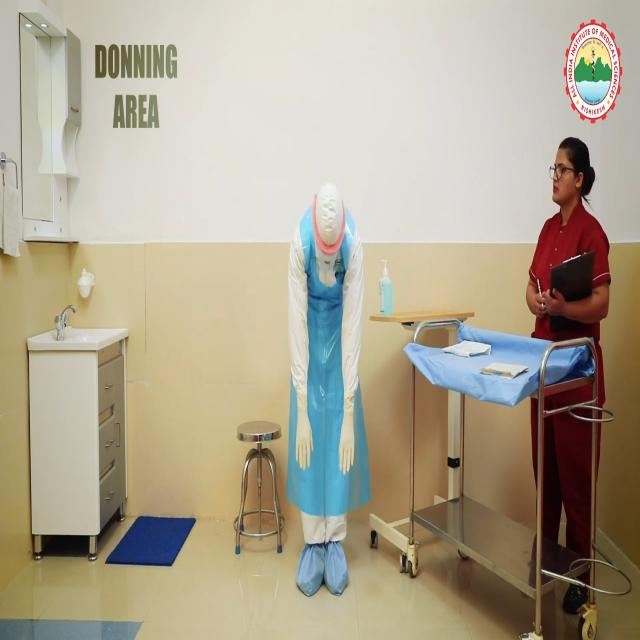Gloves: (338, 381, 359, 477), (295, 388, 317, 473)
